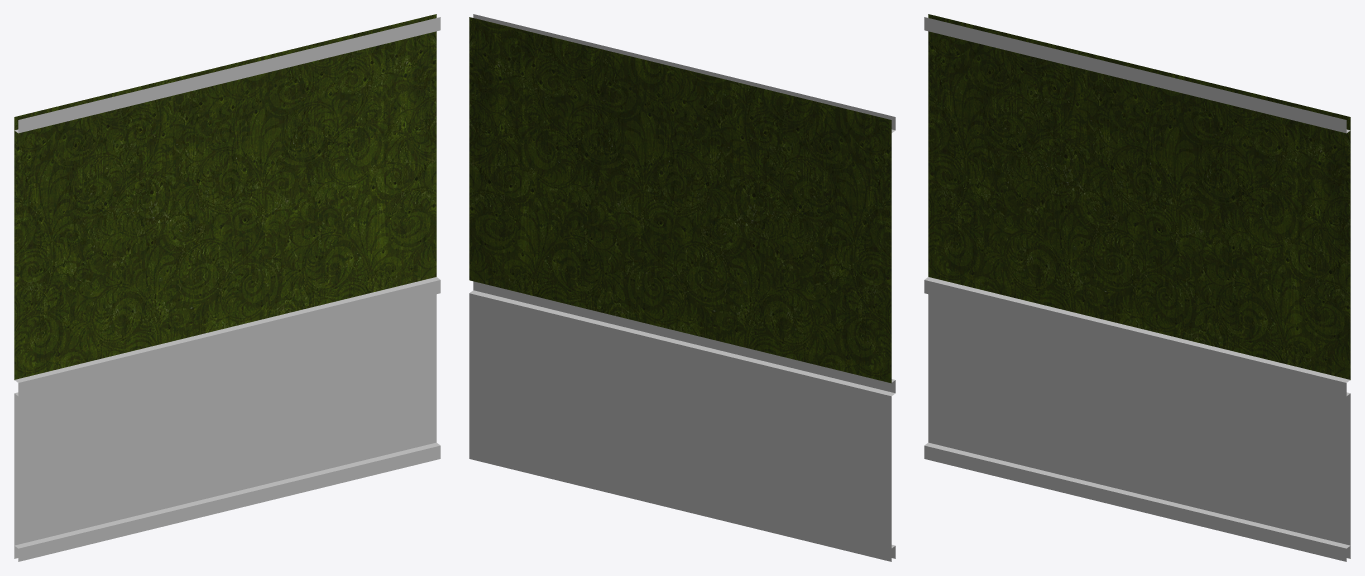
File: factory_office_01.DAE
3 views of the same model, side by side, from view 1: azimuth 30°, elevation 25°; view 2: azimuth 150°, elevation 25°; view 3: azimuth 330°, elevation 25° (orthographic).
Visible parts, largest first — view 1: Object152, Box336; view 2: Object152, Box336; view 3: Object152, Box336.
Boxes of the visible parts, x1,y1,x2,y2 form: Object152: (14, 14, 436, 379); Box336: (14, 17, 440, 561); Object152: (469, 17, 891, 383); Box336: (469, 14, 895, 561); Object152: (928, 14, 1350, 379); Box336: (924, 17, 1350, 561).
Size of the model in its own units: 4 by 4 by 0.067.
